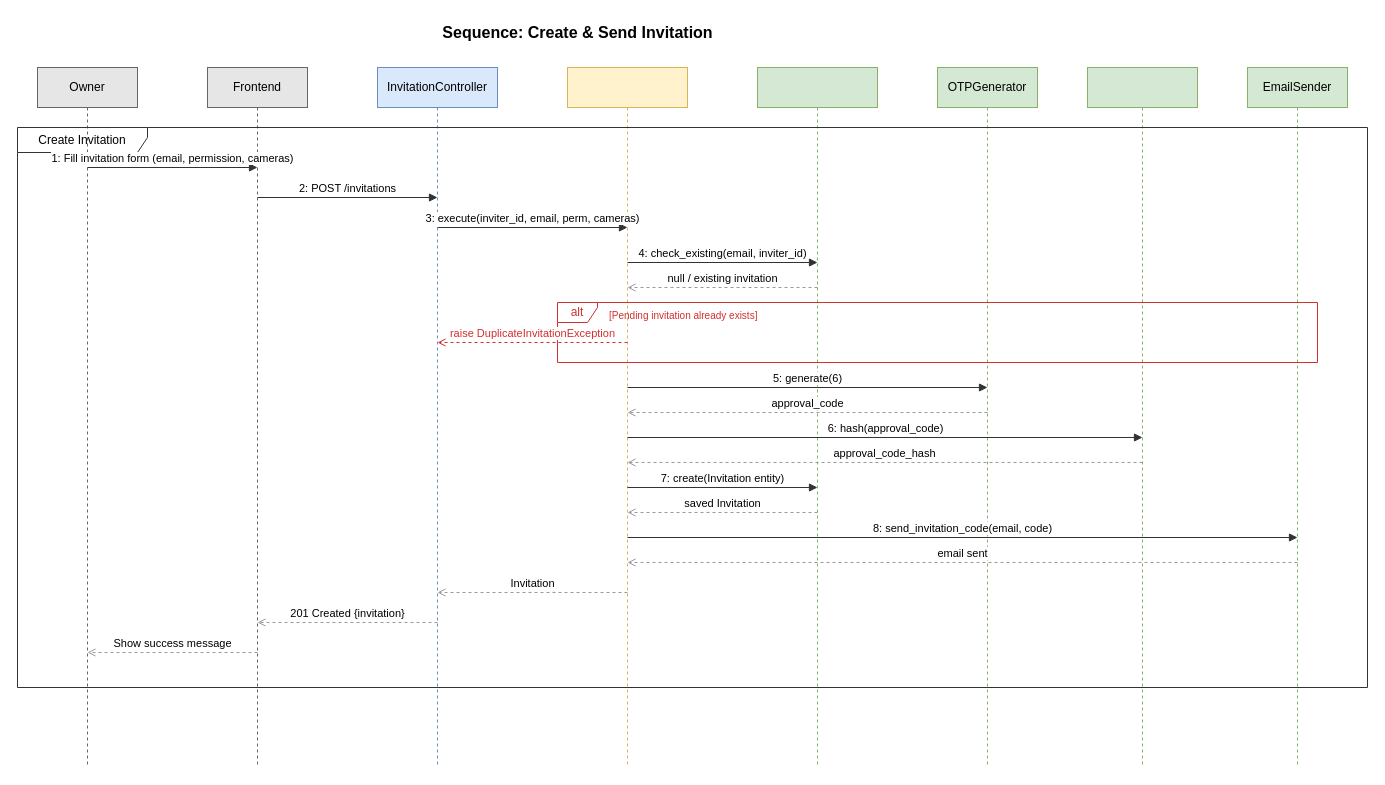
Image size: 1385x785. Some labels were removed from this diagram. Each missing label, with the box of its shape:
CreateInvitation\nUseCase: (566, 66, 688, 768)
InvitationRepository: (756, 66, 878, 768)
PasswordHasher: (1086, 66, 1198, 768)
